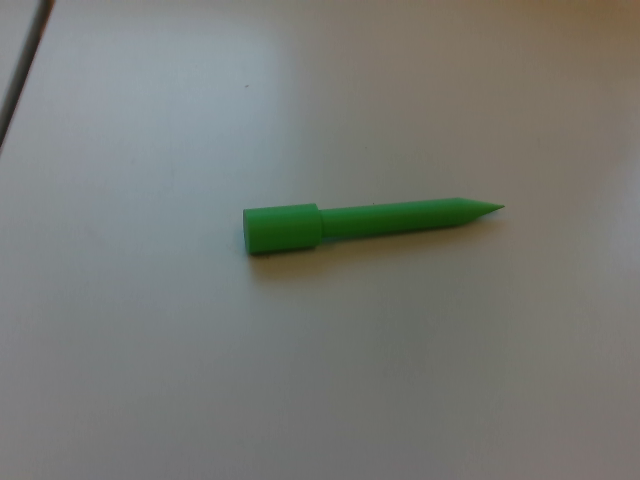Probe: (239, 190, 513, 264)
